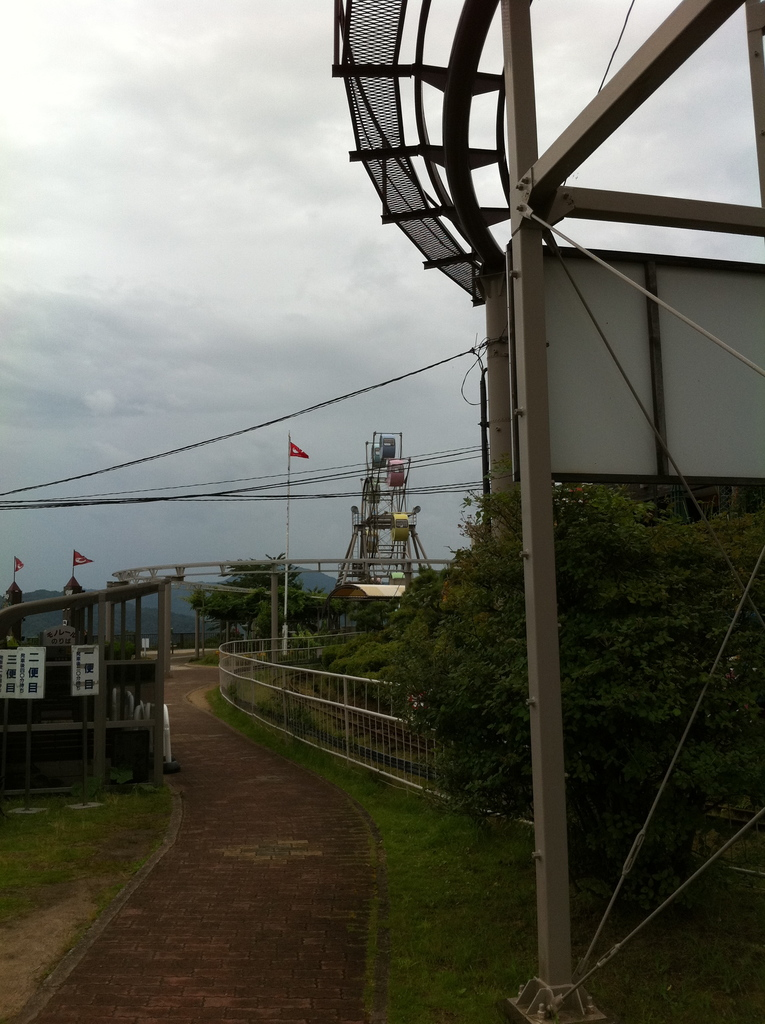Tree: (308, 478, 764, 910), (224, 551, 394, 633), (191, 581, 263, 637)
